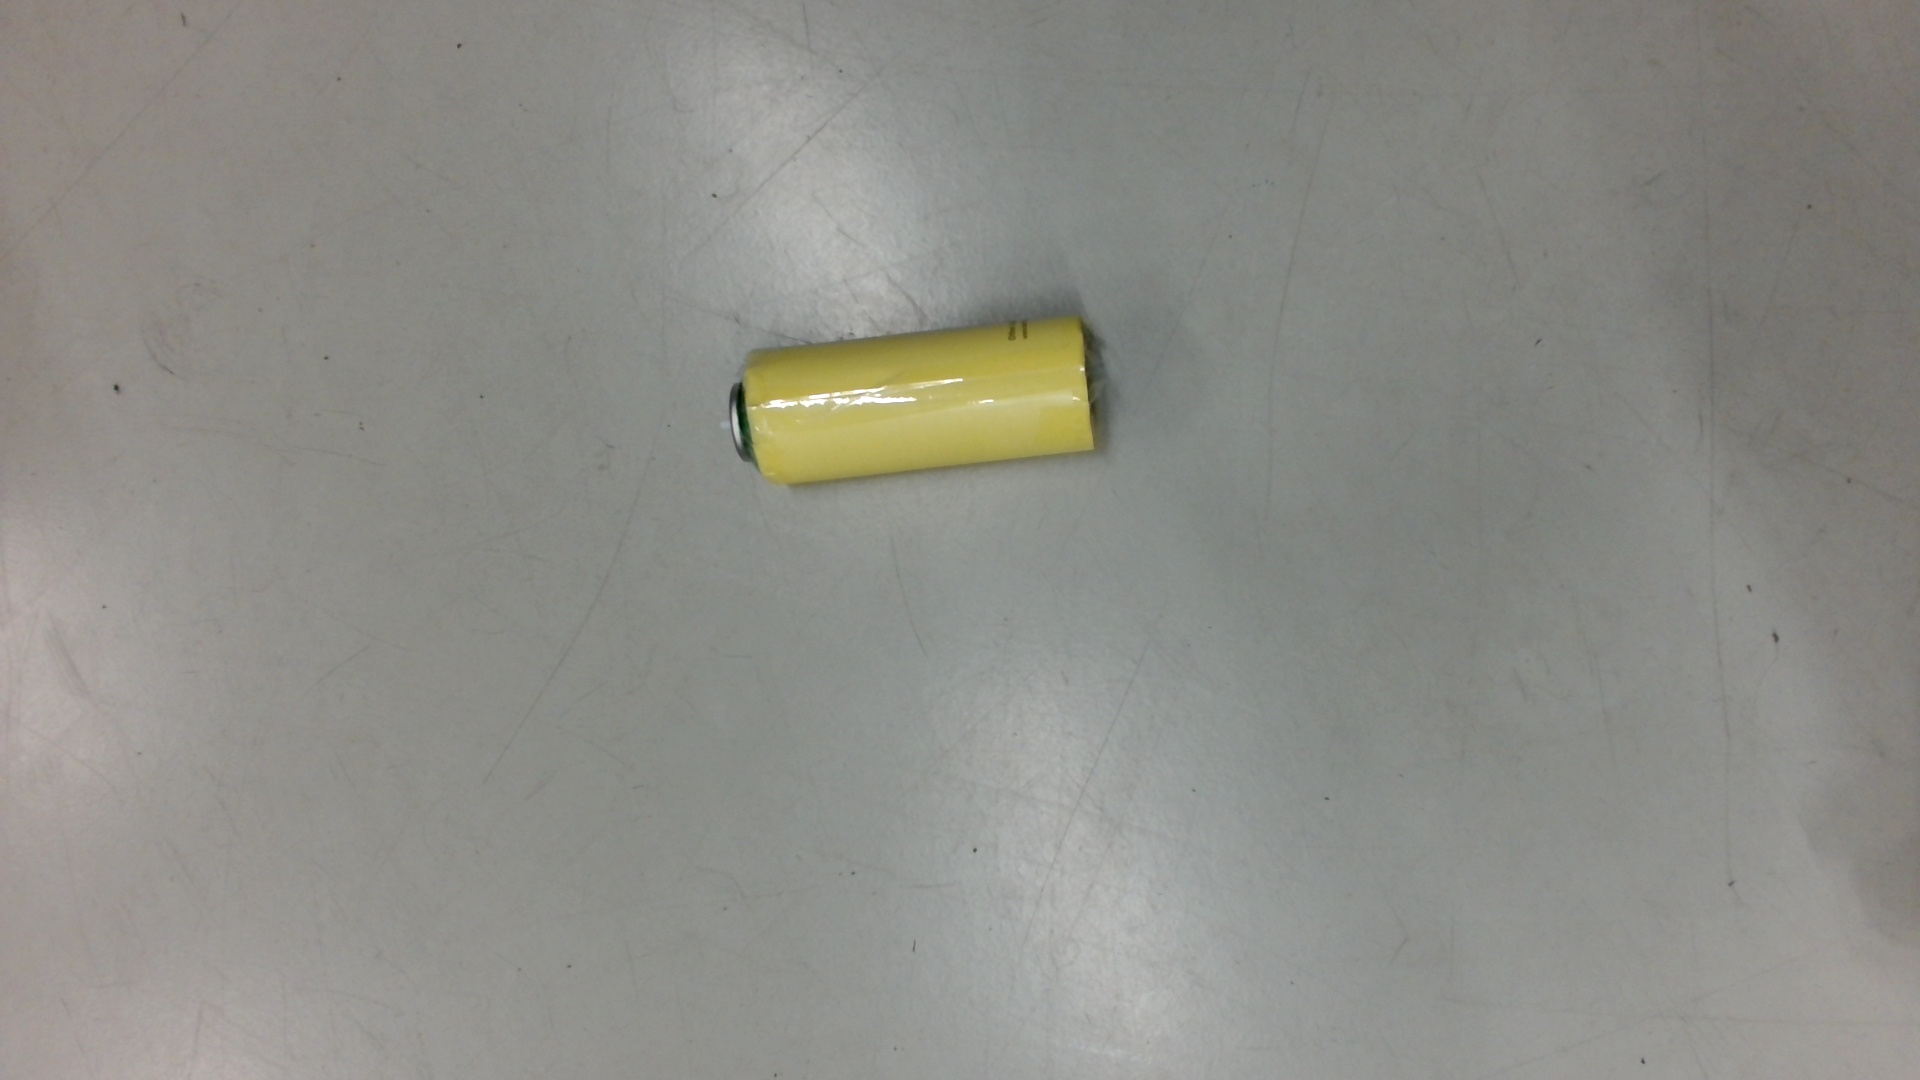Cylinder: (719, 309, 1131, 495)
